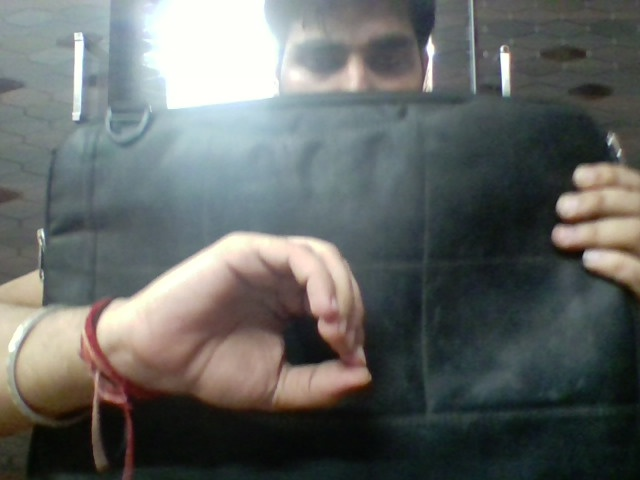o: (143, 215, 379, 412)
